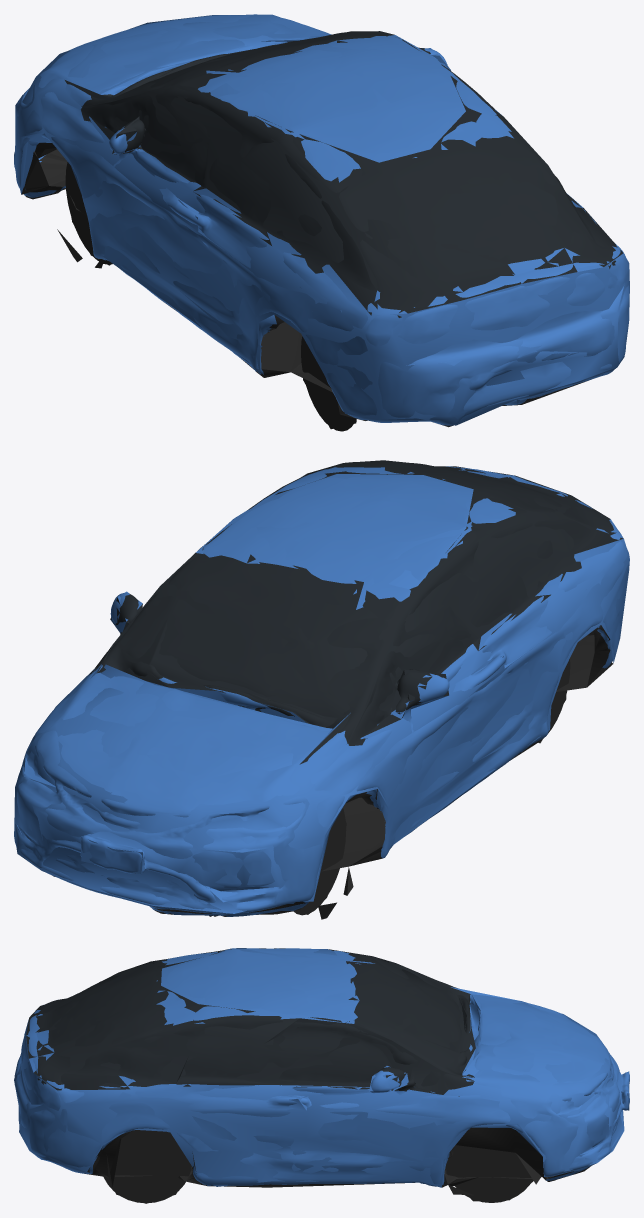
The model's file is chrysler-200.glb.
3 renders of one model, top to bottom at view 1: azimuth 30°, elevation 25°; view 2: azimuth 150°, elevation 25°; view 3: azimuth 270°, elevation 25°, orthographic. The views are drawn at different scales.
Parts seen in each view (by area): view 1: body, far; view 2: body, far; view 3: body, far.
Part boxes in pixels (bbox=[...]): body: bbox=[14, 14, 629, 431]; far: bbox=[15, 14, 629, 429]; body: bbox=[14, 461, 629, 919]; far: bbox=[14, 460, 629, 918]; body: bbox=[14, 948, 629, 1202]; far: bbox=[14, 948, 629, 1203].
Size of the model in its own units: 2.29 by 1.7 by 4.96.
